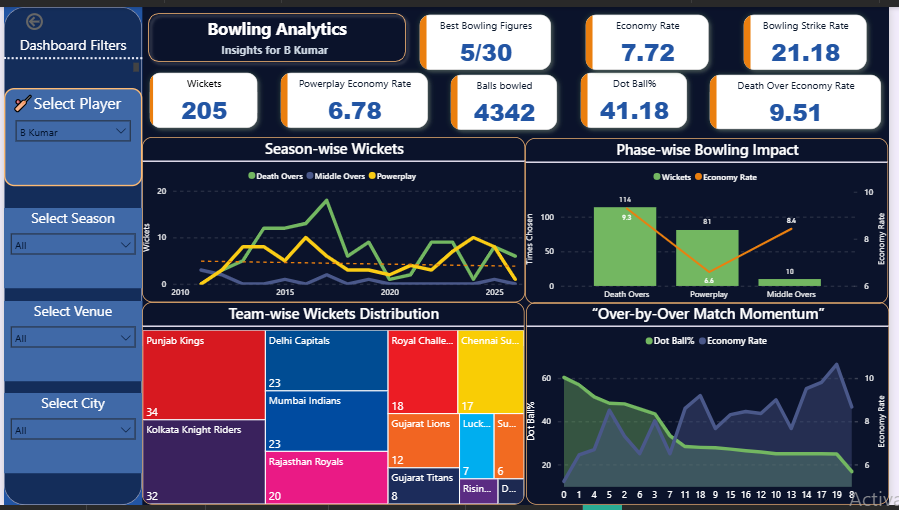

The page's visual inventory and layout, read from the dashboard file:
{"tool":"powerbi","page":{"name":"Bowling Analytics","canvas":[1280,720],"ordinal":3},"visuals":[{"type":"cardVisual","fields":{"Data":["dax_bowling.Powerplay Economy Rate"]},"box":[389,83.9,235.7,102.7],"z":0},{"type":"areaChart","title":"“Over-by-Over Match Momentum”","fields":{"Category":["fact_ipl.over"],"Y":["dax_bowling.Dot Ball%"],"Y2":["dax_bowling.Economy Rate"]},"box":[754.7,426.5,524.8,293.5],"z":1000},{"type":"shape","box":[199.5,0,390.4,88.2],"z":2000},{"type":"textbox","title":"Bowling Analytics","box":[218.3,14.5,352.8,60.7],"z":3000},{"type":"shape","box":[0,0,199.5,720],"z":4000},{"type":"slicer","title":"Select Season","fields":{"Values":["fact_ipl.season"]},"box":[0,290.6,199.5,115.7],"z":5000},{"type":"slicer","title":"Select Venue","fields":{"Values":["dim_venue.venue"]},"box":[0,425.1,199.5,115.7],"z":6000},{"type":"slicer","title":"🏏Select Player","fields":{"Values":["dim_player.player_name"]},"box":[0,117.1,199.5,141.7],"z":7000},{"type":"textbox","title":"Dashboard Filters","box":[0,40.5,199.5,57.8],"z":8000},{"type":"slicer","title":"Select City","fields":{"Values":["dim_venue.city"]},"box":[0,558.1,199.5,115.7],"z":9000},{"type":"cardVisual","fields":{"Data":["Dax.Wickets"]},"box":[199.7,84,178.8,102.8],"z":10000},{"type":"cardVisual","fields":{"Data":["Dax.Bowling Strike Rate"]},"box":[1058.3,0,200,102.7],"z":11000},{"type":"cardVisual","fields":{"Data":["Dax.Best Bowling Figures"]},"box":[589.9,0,212.5,102.7],"z":12000},{"type":"cardVisual","fields":{"Data":["dax_bowling.Dot Ball"]},"box":[822.2,83.9,176.4,102.7],"z":13000},{"type":"lineChart","title":"Season-wise Wickets","fields":{"Category":["fact_ipl.season"],"Series":["fact_ipl.innings_phase"],"Y":["dax_bowling.Wickets"]},"box":[199.5,188,553.7,238.6],"z":14000},{"type":"lineClusteredColumnComboChart","title":"Phase-wise Bowling Impact","fields":{"Category":["fact_ipl.innings_phase"],"Y":["dax_bowling.Wickets"],"Y2":["dax_bowling.Economy Rate"]},"box":[753.1,189.8,525.4,239.9],"z":15000},{"type":"cardVisual","fields":{"Data":["dax_bowling.Economy Rate"]},"box":[830.4,0,200,102.7],"z":16000},{"type":"cardVisual","fields":{"Data":["dax_bowling.Death Over Economy Rate"]},"box":[1009.2,86.7,270.4,101.2],"z":17000},{"type":"cardVisual","fields":{"Data":["Dax.Dynamic Player"]},"box":[302.2,27.5,305.1,60.7],"z":18000},{"type":"treemap","title":"Team-wise Wickets Distribution","fields":{"Group":["dim_team.team_name"],"Values":["dax_bowling.Wickets"]},"box":[199.5,426.5,553,293],"z":19000},{"type":"cardVisual","fields":{"Data":["dax_bowling.balls bowled"]},"box":[635.3,86.7,176.4,102.7],"z":20000},{"type":"actionButton","box":[27.5,1.4,33.3,39],"z":21000}]}

Visuals, with their boxes on the page's 1280x720 design canvas (x1, y1, x2, y2). These are canvas units, not pixel positions in the 899x510 screenshot, which may show the page scaled, cropped or inside an application window:
cardVisual - dax_bowling.Powerplay Economy Rate: x1=389 y1=84 x2=625 y2=187
"“Over-by-Over Match Momentum”" areaChart: x1=755 y1=426 x2=1280 y2=720
shape: x1=200 y1=0 x2=590 y2=88
"Bowling Analytics" textbox: x1=218 y1=14 x2=571 y2=75
shape: x1=0 y1=0 x2=200 y2=720
"Select Season" slicer: x1=0 y1=291 x2=200 y2=406
"Select Venue" slicer: x1=0 y1=425 x2=200 y2=541
"🏏Select Player" slicer: x1=0 y1=117 x2=200 y2=259
"Dashboard Filters" textbox: x1=0 y1=40 x2=200 y2=98
"Select City" slicer: x1=0 y1=558 x2=200 y2=674
cardVisual - Dax.Wickets: x1=200 y1=84 x2=378 y2=187
cardVisual - Dax.Bowling Strike Rate: x1=1058 y1=0 x2=1258 y2=103
cardVisual - Dax.Best Bowling Figures: x1=590 y1=0 x2=802 y2=103
cardVisual - dax_bowling.Dot Ball: x1=822 y1=84 x2=999 y2=187
"Season-wise Wickets" lineChart: x1=200 y1=188 x2=753 y2=427
"Phase-wise Bowling Impact" lineClusteredColumnComboChart: x1=753 y1=190 x2=1278 y2=430
cardVisual - dax_bowling.Economy Rate: x1=830 y1=0 x2=1030 y2=103
cardVisual - dax_bowling.Death Over Economy Rate: x1=1009 y1=87 x2=1280 y2=188
cardVisual - Dax.Dynamic Player: x1=302 y1=28 x2=607 y2=88
"Team-wise Wickets Distribution" treemap: x1=200 y1=426 x2=752 y2=720
cardVisual - dax_bowling.balls bowled: x1=635 y1=87 x2=812 y2=189
actionButton: x1=28 y1=1 x2=61 y2=40
